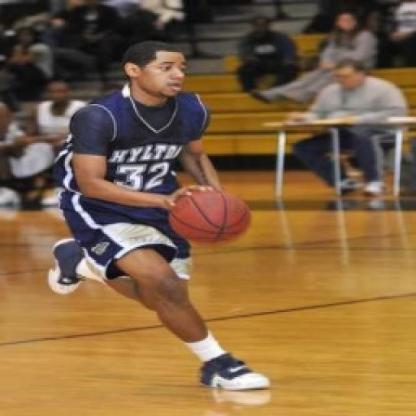basketball: (168, 186, 254, 247)
